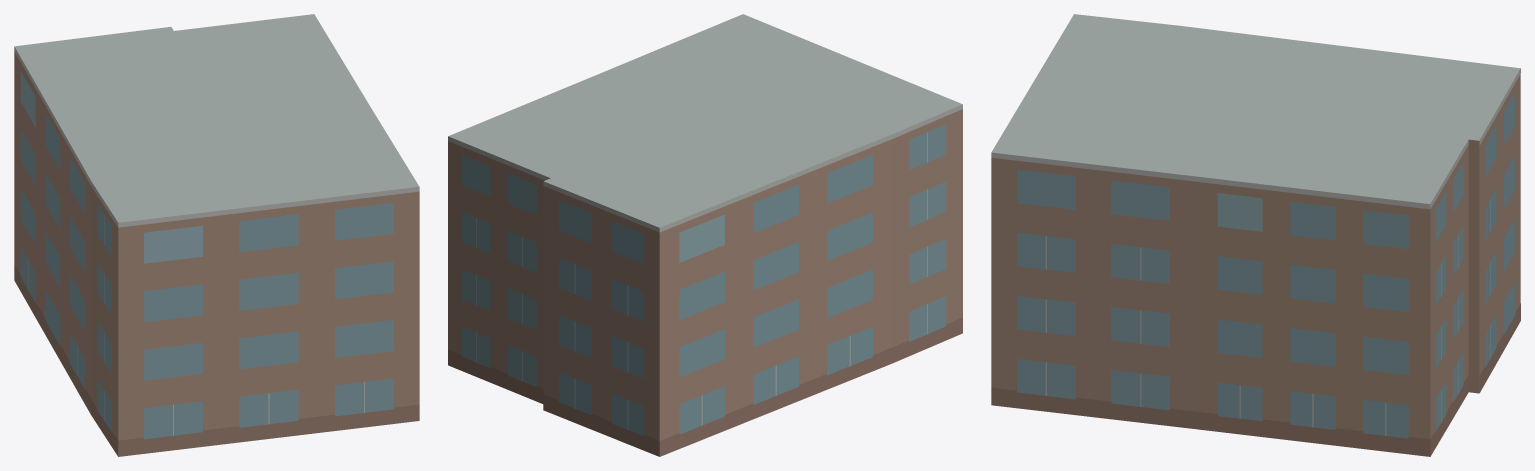
Rendered from survey-upis-32687231.glb.
3 views of the same model, side by side, from view 1: azimuth 30°, elevation 25°; view 2: azimuth 150°, elevation 25°; view 3: azimuth 270°, elevation 25° (orthographic). The views are drawn at different scales.
Visible parts, largest first — view 1: survey-upis-32687231.tmp; view 2: survey-upis-32687231.tmp; view 3: survey-upis-32687231.tmp.
Part boxes in pixels (bbox=[...]): survey-upis-32687231.tmp: bbox=[14, 14, 419, 456]; survey-upis-32687231.tmp: bbox=[448, 14, 962, 456]; survey-upis-32687231.tmp: bbox=[991, 14, 1520, 456].
Size of the model in its own units: 19.22 by 11.9 by 22.61.
